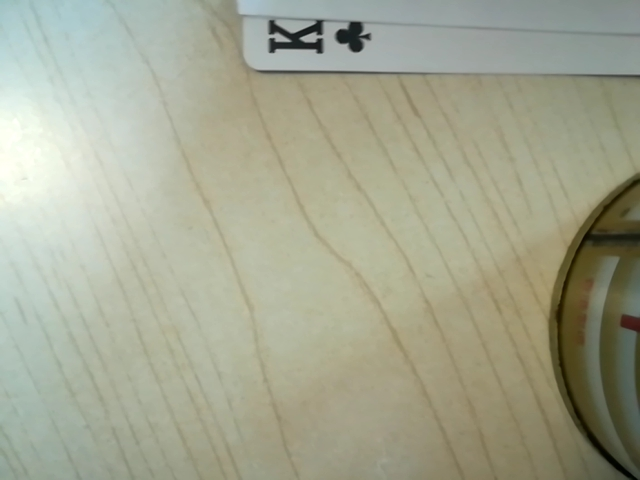mh k: (252, 9, 382, 68)
